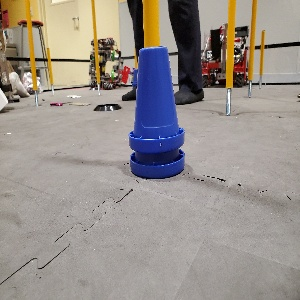Blue_2: (128, 45, 185, 178)
